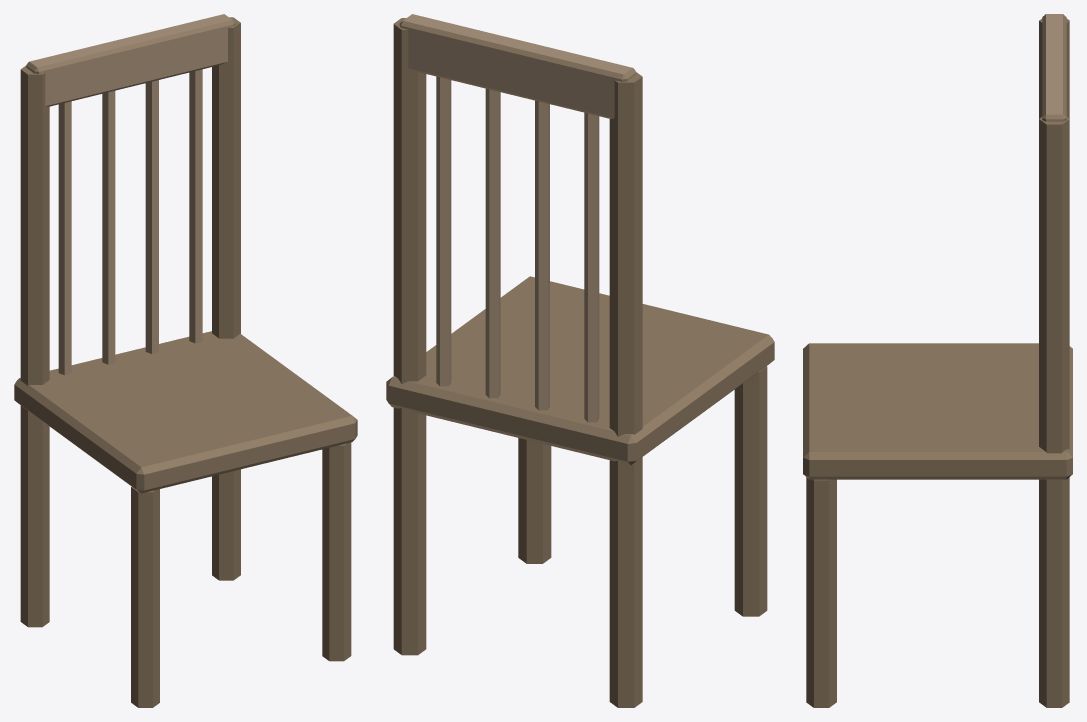
The model's file is chair_3.glb.
The picture shows the model from 3 angles, left to right: view 1: azimuth 30°, elevation 25°; view 2: azimuth 150°, elevation 25°; view 3: azimuth 270°, elevation 25°; orthographic projection. The views are drawn at different scales.
Visible parts, largest first — view 1: Chair_3; view 2: Chair_3; view 3: Chair_3.
Part boxes in pixels (x1,y1,x2,y2): Chair_3: (14,14,357,707); Chair_3: (386,14,774,707); Chair_3: (803,14,1072,707).
Bounding box in the file's own units: 0.44 × 1.06 × 0.44.
